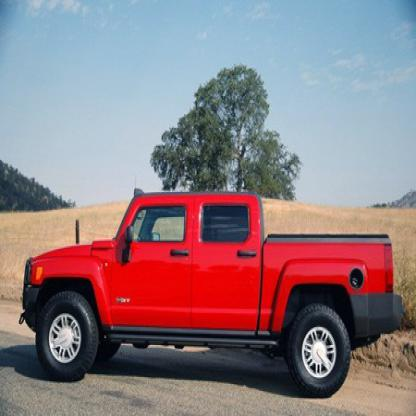Vehicle: (17, 188, 406, 401)
